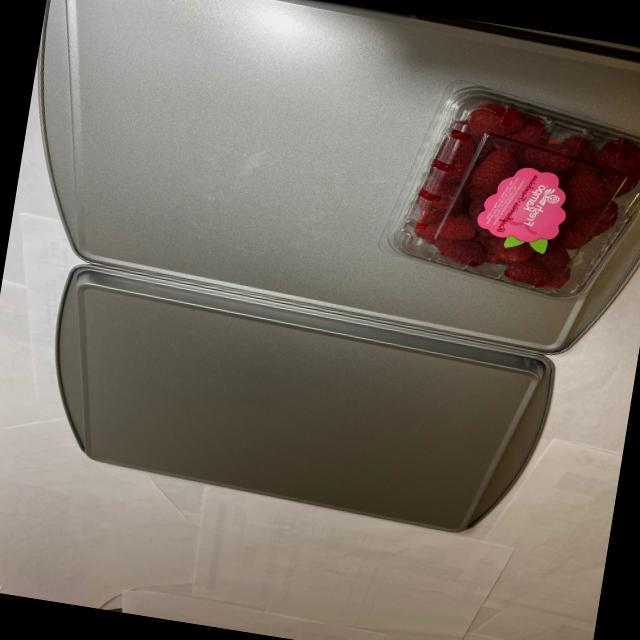raspberries: (400, 99, 640, 297)
